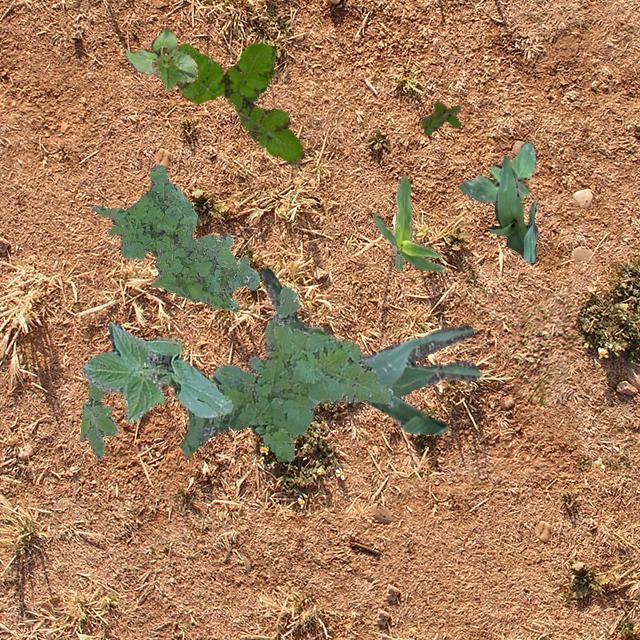crop: (260, 266, 480, 434), (80, 322, 232, 422), (372, 176, 444, 272), (484, 154, 538, 264), (124, 26, 196, 90)
weed: (180, 286, 392, 460), (90, 164, 258, 310), (174, 41, 304, 166), (458, 142, 534, 202), (80, 381, 118, 456), (420, 100, 460, 134)
